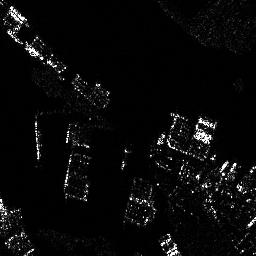ship: (32, 120, 42, 160)
